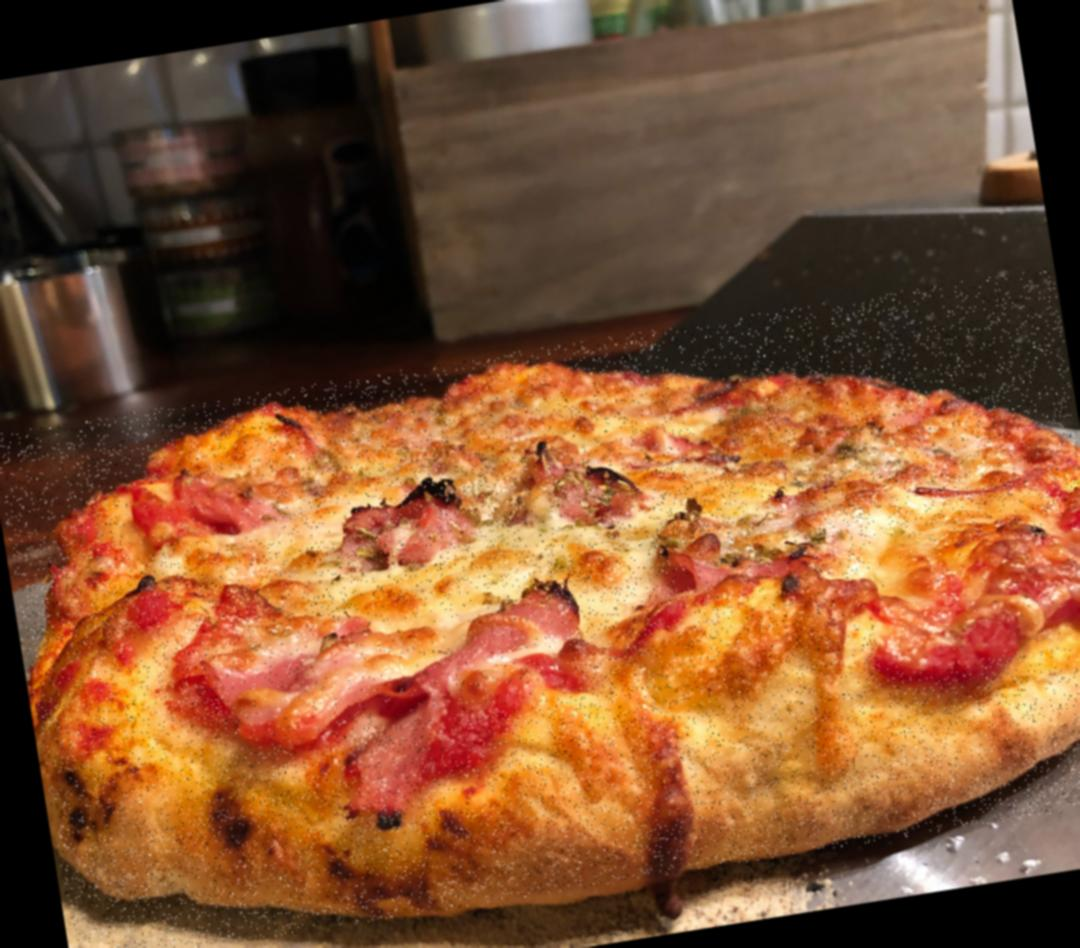Bacon: (215, 579, 578, 748), (860, 508, 1080, 674), (118, 554, 292, 657), (118, 466, 282, 558), (323, 474, 486, 564), (667, 516, 818, 603), (516, 425, 640, 527)
Pizza: (0, 266, 1080, 948)
